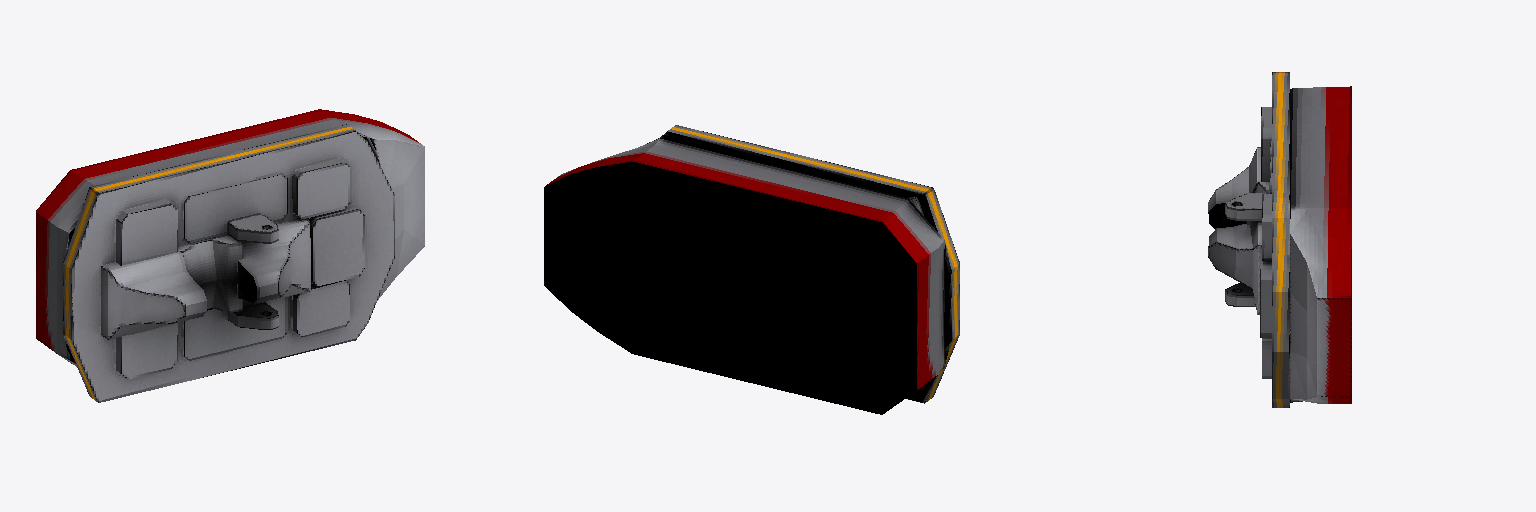
3 views of the same model, side by side, from view 1: azimuth 30°, elevation 25°; view 2: azimuth 150°, elevation 25°; view 3: azimuth 270°, elevation 25° (orthographic).
Visible parts, largest first — view 1: l_foot; view 2: l_foot; view 3: l_foot.
Part boxes in pixels (x1,y1,x2,y2): l_foot: (36, 109, 424, 402); l_foot: (544, 125, 959, 414); l_foot: (1208, 72, 1351, 407).
Bounding box in the file's own units: 0.263 × 0.1399 × 0.0866.
Materials: 1 (1 with a texture image).